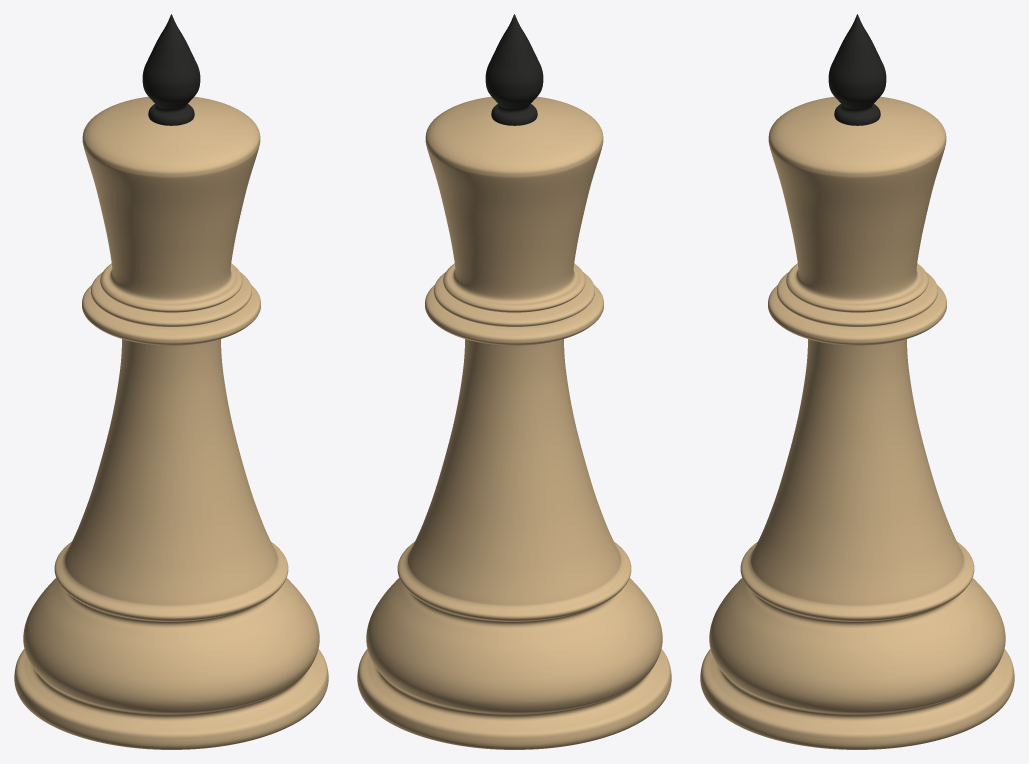
The model's file is king.glb.
The picture shows the model from 3 angles, left to right: view 1: azimuth 30°, elevation 25°; view 2: azimuth 150°, elevation 25°; view 3: azimuth 270°, elevation 25°; orthographic projection.
Parts seen in each view (by area): view 1: King.002; view 2: King.002; view 3: King.002.
Part boxes in pixels (x1,y1,x2,y2): King.002: (14,14,328,749); King.002: (357,14,671,749); King.002: (700,14,1014,749).
Bounding box in the file's own units: 0.0413 × 0.0984 × 0.0413.
